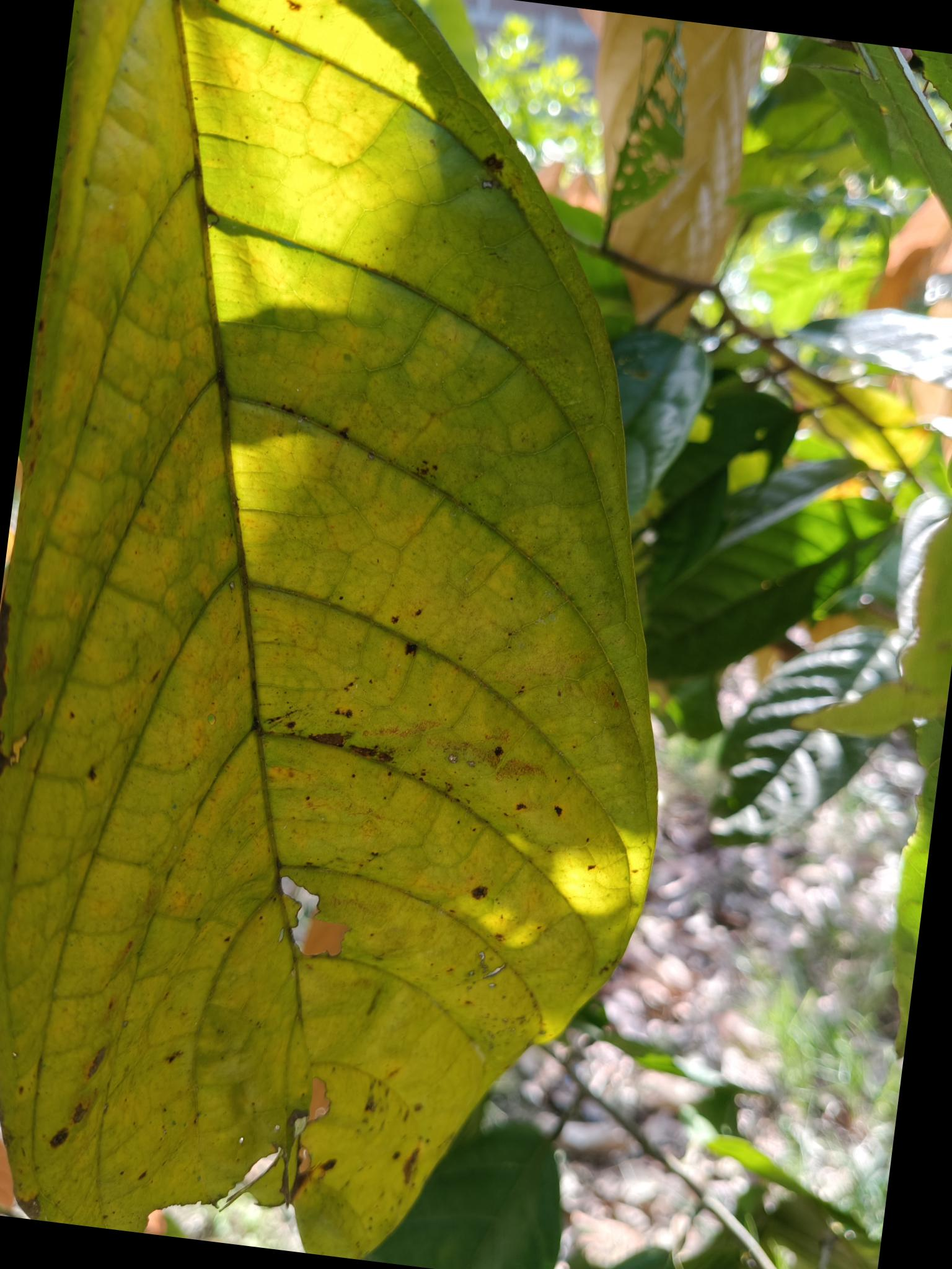Fosforo: (0, 0, 650, 1254)
